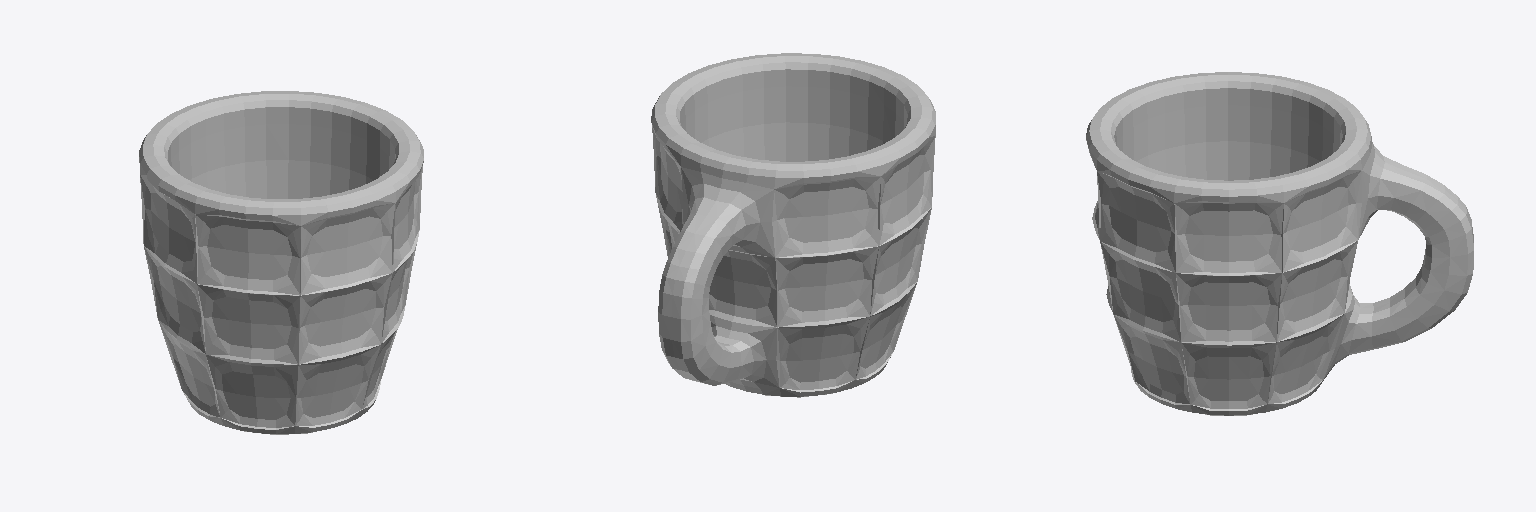
The model's file is Mugyfc5e.obj.
3 renders of one model, left to right at view 1: azimuth 30°, elevation 25°; view 2: azimuth 150°, elevation 25°; view 3: azimuth 270°, elevation 25°, orthographic.
Visible parts, largest first — view 1: Cylinder_Cylinder.001; view 2: Cylinder_Cylinder.001; view 3: Cylinder_Cylinder.001.
Part boxes in pixels (bbox=[...]): Cylinder_Cylinder.001: bbox=[139, 91, 423, 434]; Cylinder_Cylinder.001: bbox=[651, 53, 935, 397]; Cylinder_Cylinder.001: bbox=[1086, 72, 1473, 415].
Bounding box in the file's own units: 2.77 × 2.72 × 3.77.